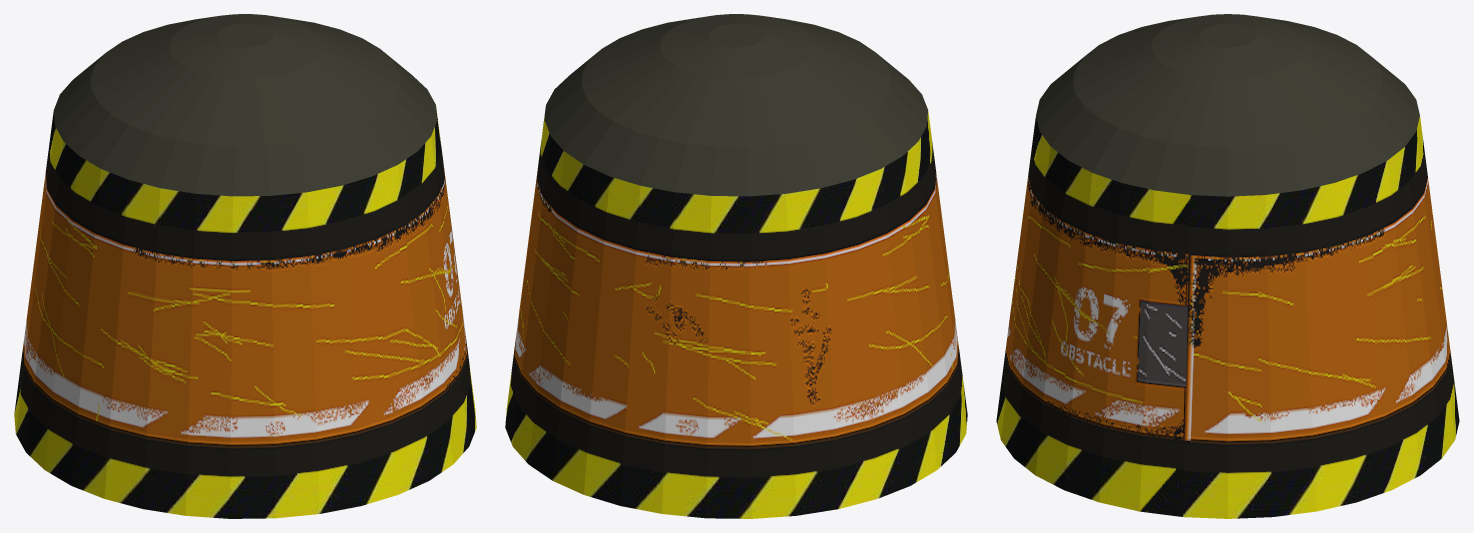
Rendered from cilindro_bajo.fbx.
3 renders of one model, left to right at view 1: azimuth 30°, elevation 25°; view 2: azimuth 150°, elevation 25°; view 3: azimuth 270°, elevation 25°, orthographic.
Parts seen in each view (by area): view 1: Cylinder; view 2: Cylinder; view 3: Cylinder.
Part boxes in pixels (x1=…): Cylinder: x1=14, y1=14, x2=476, y2=518; Cylinder: x1=505, y1=14, x2=967, y2=518; Cylinder: x1=996, y1=14, x2=1459, y2=518.
Bounding box in the file's own units: 1.63 × 1.59 × 1.63.
